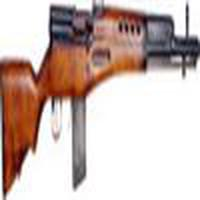gun: (1, 4, 198, 185)
